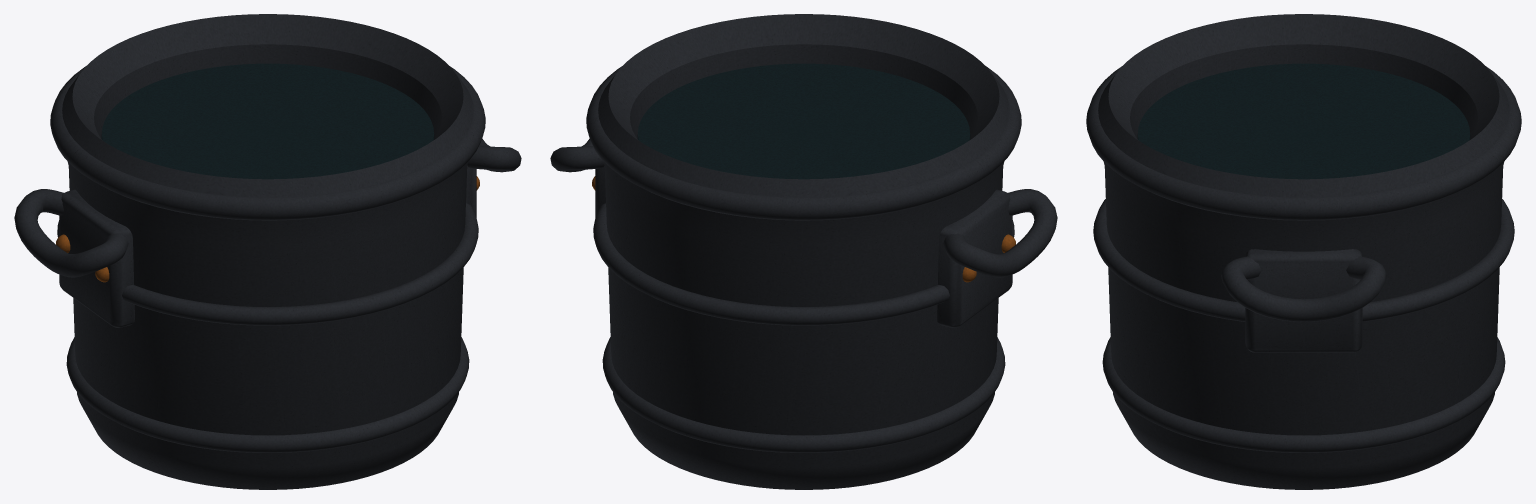
File: quench-water.glb
3 renders of one model, left to right at view 1: azimuth 30°, elevation 25°; view 2: azimuth 150°, elevation 25°; view 3: azimuth 270°, elevation 25°, orthographic.
Parts seen in each view (by area): view 1: quench-water; view 2: quench-water; view 3: quench-water.
Boxes of the visible parts, x1=… form: quench-water: x1=14, y1=14, x2=521, y2=489; quench-water: x1=550, y1=14, x2=1057, y2=489; quench-water: x1=1086, y1=14, x2=1521, y2=489.
Size of the model in its own units: 1.33 by 0.92 by 1.11.
Materials: 3 (3 with a texture image).
